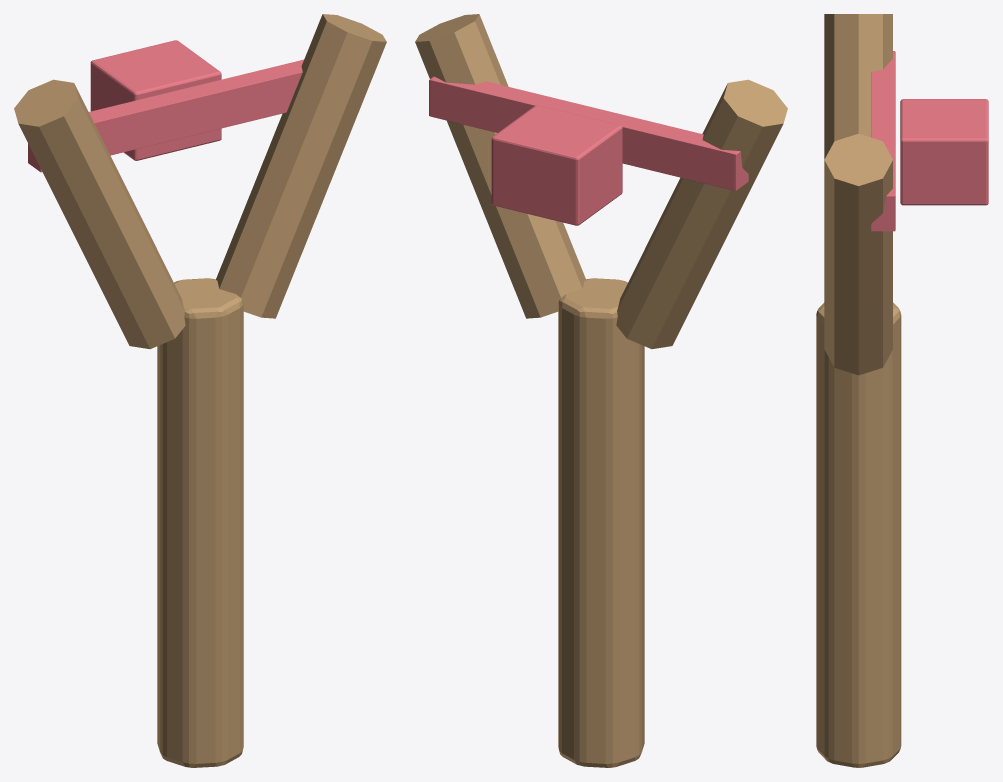
The model's file is SlingshotItem.fbx.
3 views of the same model, side by side, from view 1: azimuth 30°, elevation 25°; view 2: azimuth 150°, elevation 25°; view 3: azimuth 270°, elevation 25° (orthographic). The views are drawn at different scales.
Visible parts, largest first — view 1: Wood.001, Band.001; view 2: Wood.001, Band.001; view 3: Wood.001, Band.001.
Boxes of the visible parts, bbox=[...] form: Wood.001: bbox=[14, 14, 386, 767]; Band.001: bbox=[28, 40, 303, 172]; Wood.001: bbox=[415, 14, 787, 767]; Band.001: bbox=[429, 76, 748, 225]; Wood.001: bbox=[816, 14, 901, 767]; Band.001: bbox=[871, 51, 988, 231].
Size of the model in its own units: 1.66 by 3.05 by 0.7033.
